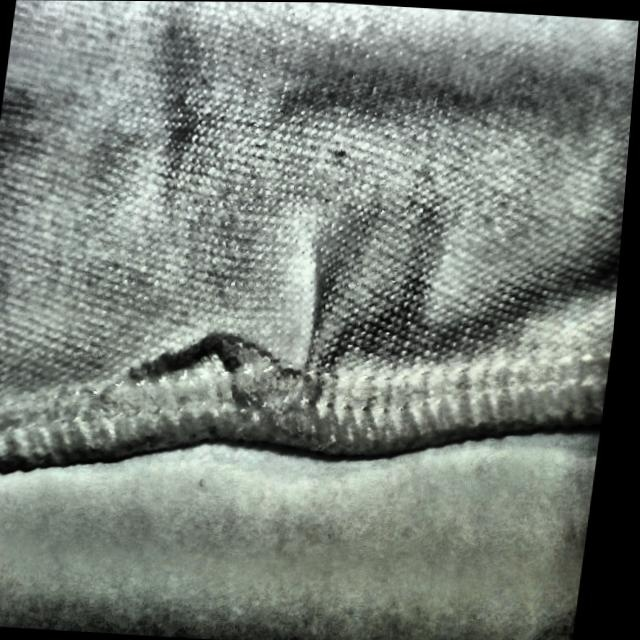seam: (124, 238, 368, 466)
